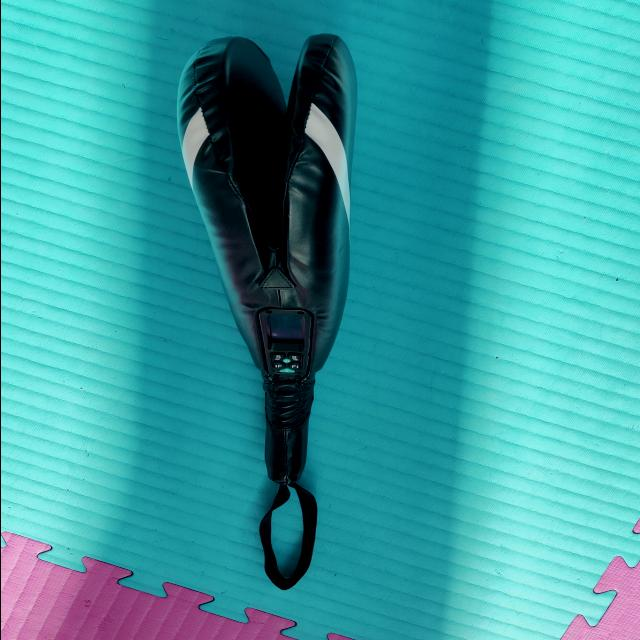paddle: (171, 28, 361, 482)
